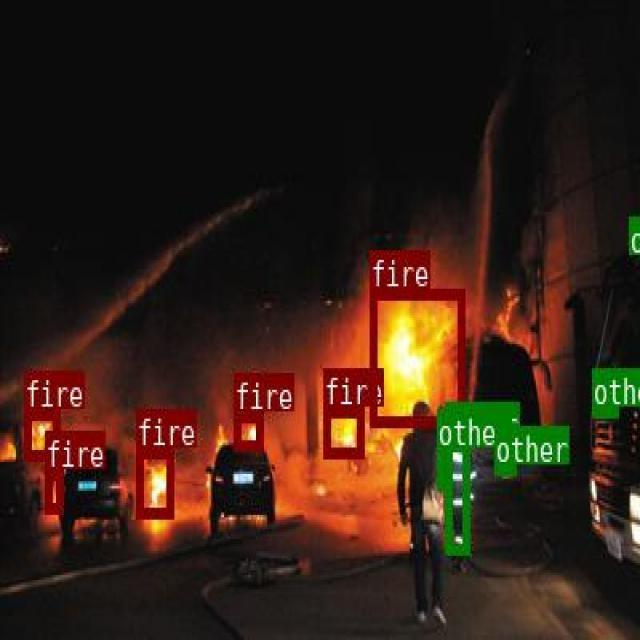fire: (369, 287, 463, 424), (136, 446, 172, 517), (322, 405, 363, 456), (24, 409, 58, 457), (233, 410, 261, 448), (44, 467, 62, 512)
